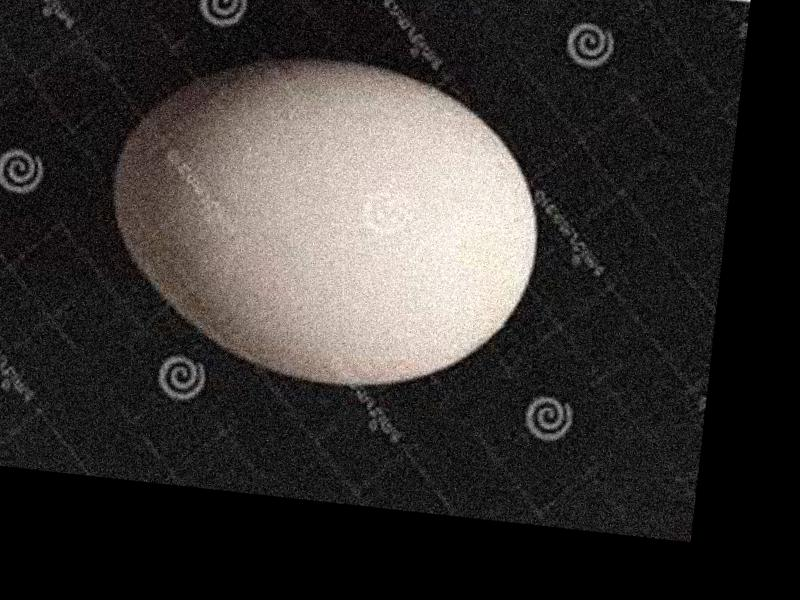Eggs: (94, 38, 557, 404)
